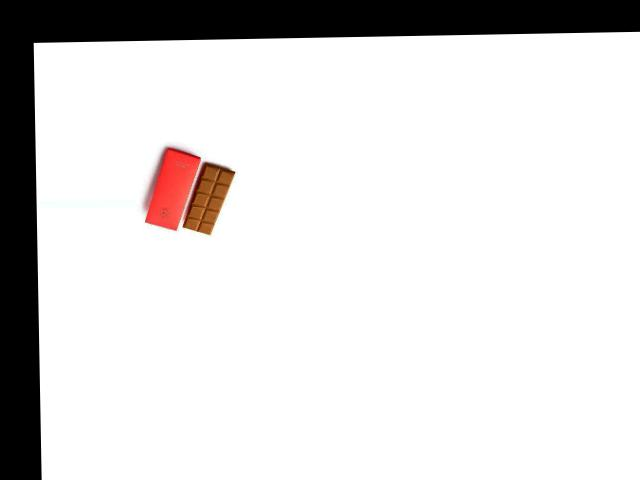chocolate: (177, 158, 236, 236)
